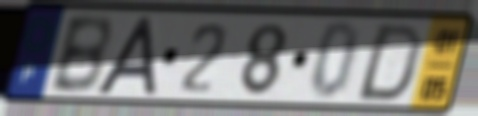0: (309, 19, 363, 103)
2: (176, 20, 229, 95)
8: (238, 21, 293, 98)
A: (92, 13, 159, 98)
B: (46, 12, 114, 97)
D: (352, 21, 427, 104)
